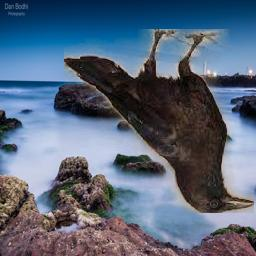Crow: (64, 29, 254, 213)
